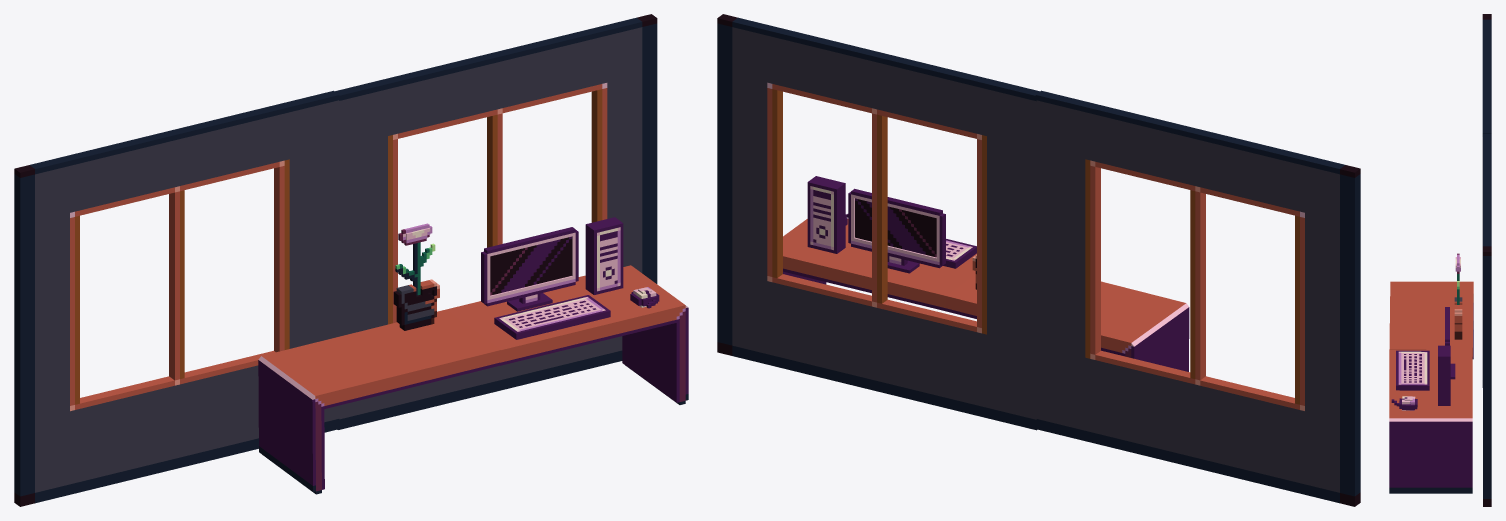
The model's file is pixeloffice.glb.
3 views of the same model, side by side, from view 1: azimuth 30°, elevation 25°; view 2: azimuth 150°, elevation 25°; view 3: azimuth 270°, elevation 25° (orthographic). The views are drawn at different scales.
Parts seen in each view (by area): view 1: generated(Clone).008, generated(Clone).007, generated(Clone).003, generated(Clone).005, generated(Clone), generated(Clone).006, generated(Clone).002, generated(Clone).001; view 2: generated(Clone).008, generated(Clone).007, generated(Clone).003, generated(Clone).005, generated(Clone), generated(Clone).001; view 3: generated(Clone).005, generated(Clone).003, generated(Clone).007, generated(Clone).008, generated(Clone).002, generated(Clone).001, generated(Clone).006, generated(Clone).004, generated(Clone).
Boxes of the visible parts, left/top/right/bottom form: generated(Clone).008: left=14, top=90, right=339, bottom=506; generated(Clone).007: left=335, top=14, right=657, bottom=429; generated(Clone).003: left=258, top=310, right=500, bottom=494; generated(Clone).005: left=448, top=265, right=688, bottom=404; generated(Clone): left=481, top=227, right=578, bottom=311; generated(Clone).006: left=393, top=223, right=439, bottom=330; generated(Clone).002: left=494, top=295, right=610, bottom=339; generated(Clone).001: left=585, top=217, right=623, bottom=294; generated(Clone).008: left=1035, top=90, right=1360, bottom=506; generated(Clone).007: left=717, top=14, right=1039, bottom=430; generated(Clone).003: left=946, top=275, right=1189, bottom=371; generated(Clone).005: left=783, top=219, right=976, bottom=311; generated(Clone): left=848, top=188, right=945, bottom=273; generated(Clone).001: left=807, top=176, right=845, bottom=253; generated(Clone).005: left=1389, top=349, right=1472, bottom=493; generated(Clone).003: left=1389, top=281, right=1473, bottom=359; generated(Clone).007: left=1483, top=133, right=1491, bottom=506; generated(Clone).008: left=1482, top=14, right=1491, bottom=387; generated(Clone).002: left=1396, top=350, right=1429, bottom=390; generated(Clone).001: left=1438, top=345, right=1450, bottom=405; generated(Clone).006: left=1454, top=253, right=1462, bottom=339; generated(Clone).004: left=1391, top=396, right=1417, bottom=410; generated(Clone): left=1445, top=307, right=1455, bottom=379.
Size of the model in its own units: 216 by 109 by 39.42.
Materials: 7 (7 with a texture image).
